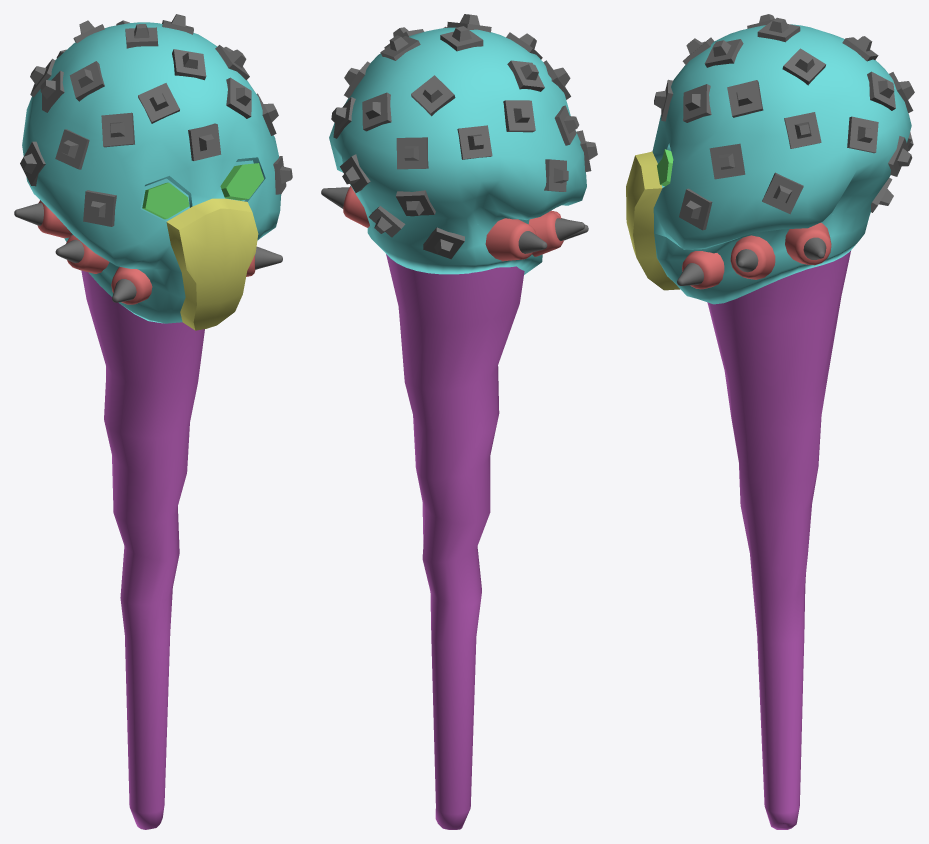
Rendered from MazePainter.fbx.
3 views of the same model, side by side, from view 1: azimuth 30°, elevation 25°; view 2: azimuth 150°, elevation 25°; view 3: azimuth 270°, elevation 25° (orthographic).
Parts seen in each view (by area): view 1: Melee_Maze; view 2: Melee_Maze; view 3: Melee_Maze.
Boxes of the visible parts, x1,y1,x2,y2 form: Melee_Maze: [14, 14, 292, 829]; Melee_Maze: [321, 14, 597, 829]; Melee_Maze: [626, 14, 914, 829].
Bounding box in the file's own units: 0.3712 × 1.19 × 0.3884.
